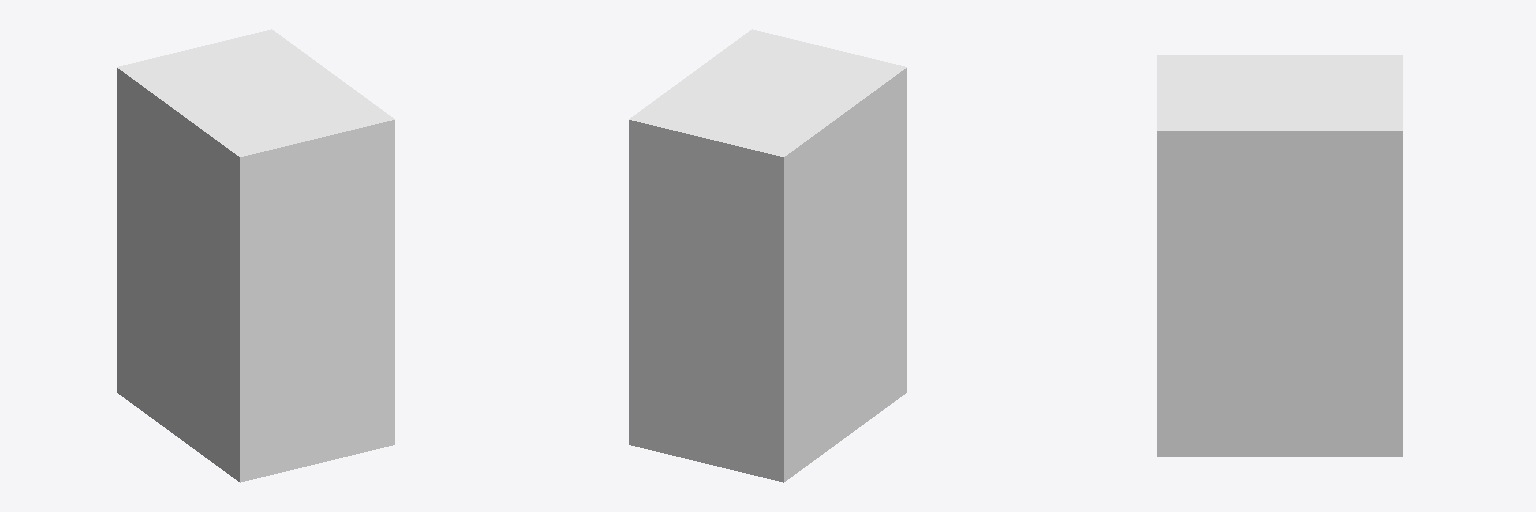
File: dustbox2.obj
3 views of the same model, side by side, from view 1: azimuth 30°, elevation 25°; view 2: azimuth 150°, elevation 25°; view 3: azimuth 270°, elevation 25° (orthographic).
Parts seen in each view (by area): view 1: object 1; view 2: object 1; view 3: object 1.
Boxes of the visible parts, x1,y1,x2,y2 form: object 1: [117, 29, 394, 482]; object 1: [629, 29, 906, 482]; object 1: [1157, 55, 1402, 456].
Bounding box in the file's own units: 0.8 × 1.6 × 1.1.